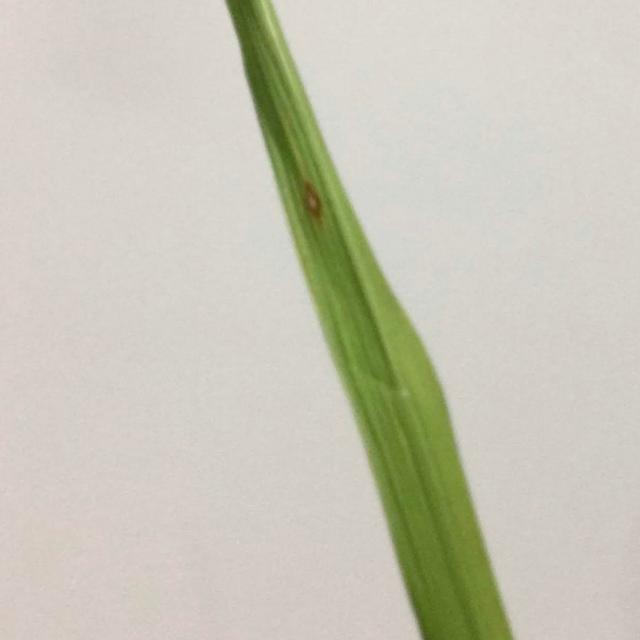Blast: (297, 179, 330, 225)
